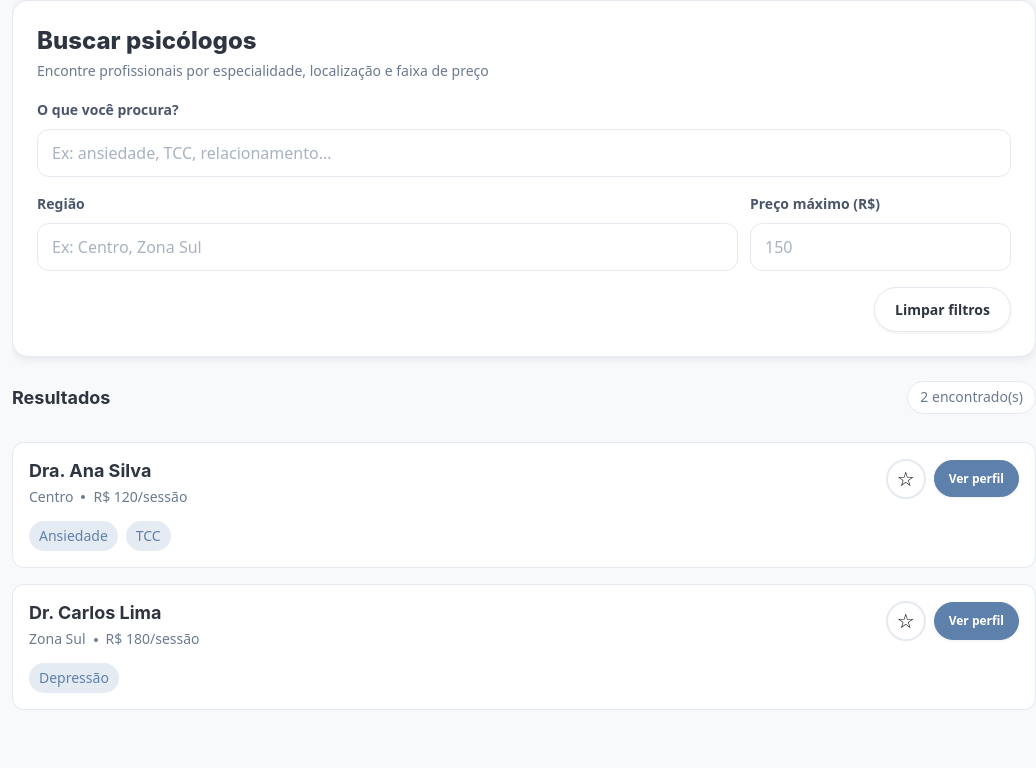
Test: SearchPage › deve limpar filtros ao clicar em "Limpar filtros"
The image size is (1036, 768).
Expected: the heading "Dra. Ana Silva" is shown, [29, 460, 151, 481]
Preenche os filtros
Type "teste" into the field labelled "O que você procura?" at {"x": 524, "y": 153}, box [37, 129, 1011, 177]
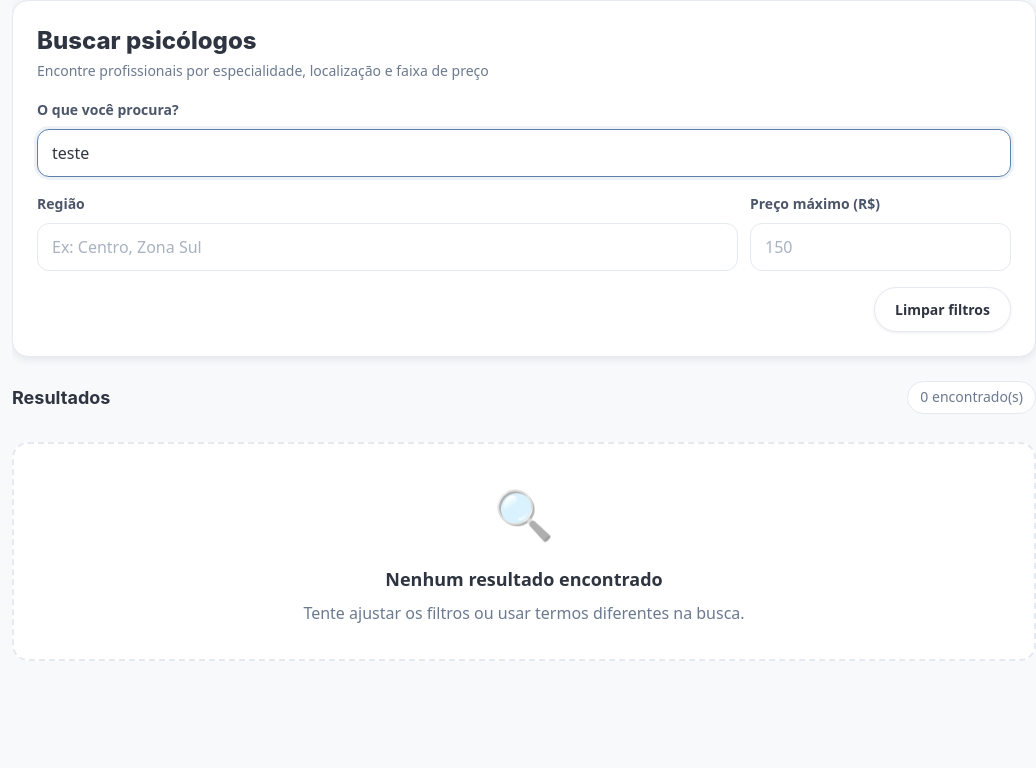
Clica em limpar
Click the button "Limpar filtros" at {"x": 942, "y": 310}, box [874, 287, 1011, 332]
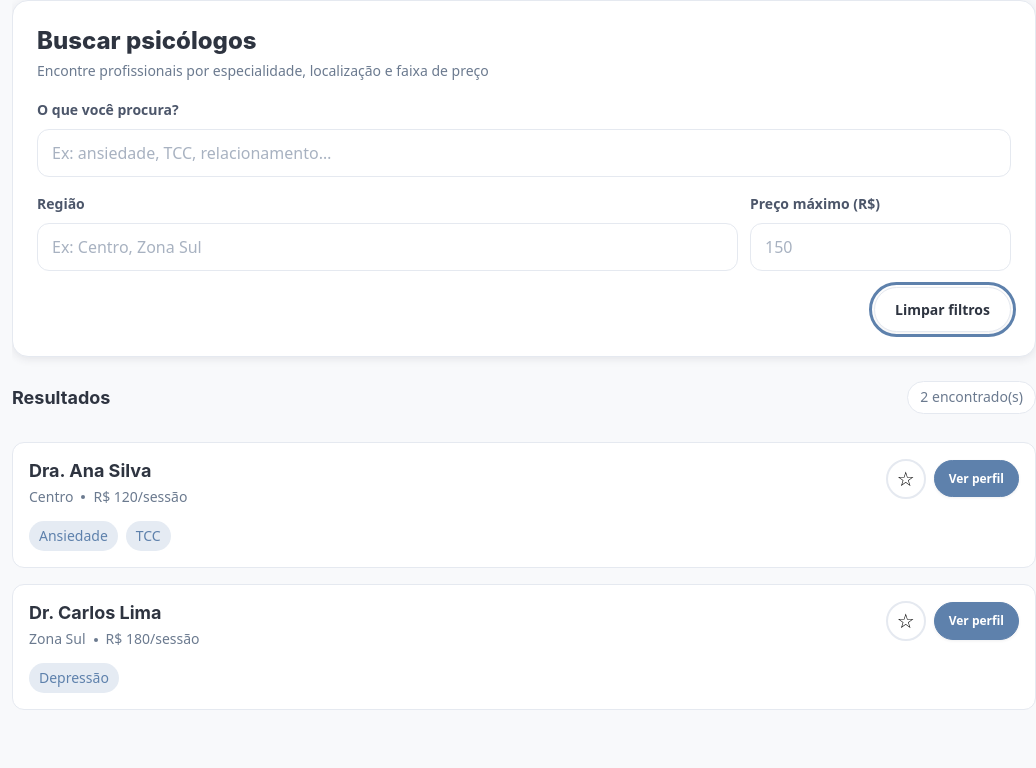
Result: the field labelled "O que você procura?" is empty at [37, 129, 1011, 177]
